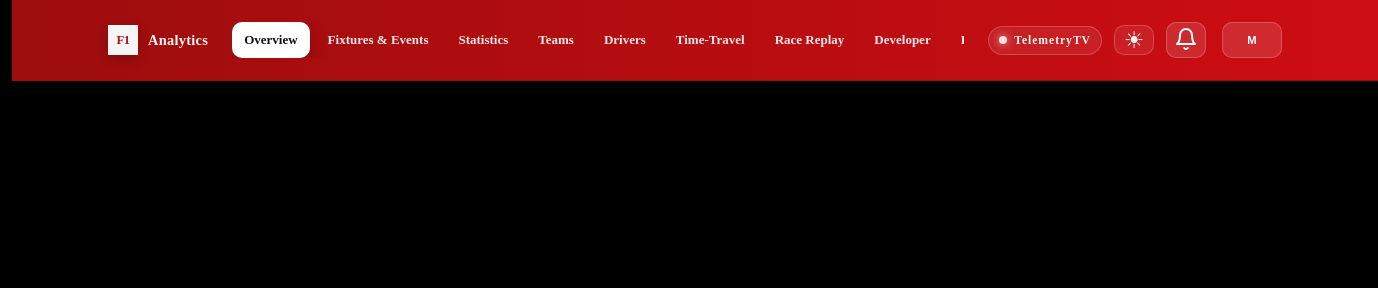
Test case: TopNavigation › asks for confirmation before logging out, and No only clears the question
This screenshot has width=1378, height=288.
Click the button "M" at (1252,40), box top-left (1222, 22), bottom-right (1282, 58)
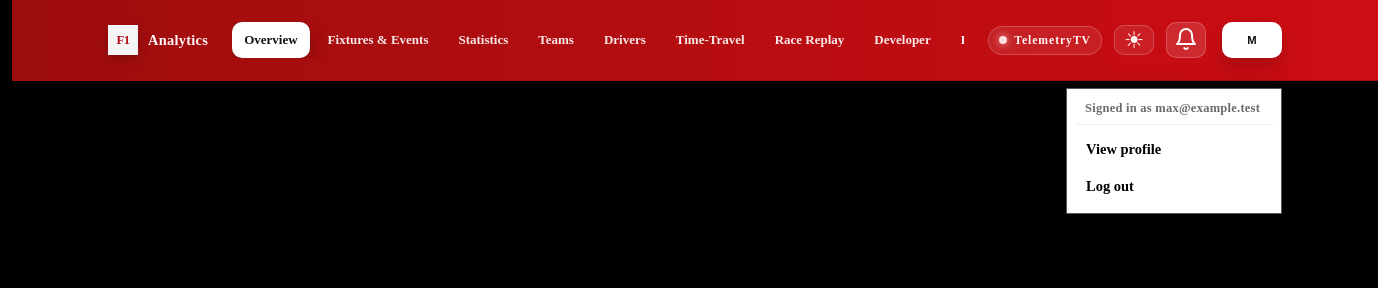
Click the button "Log out" at (1174,186), box top-left (1075, 168), bottom-right (1273, 205)
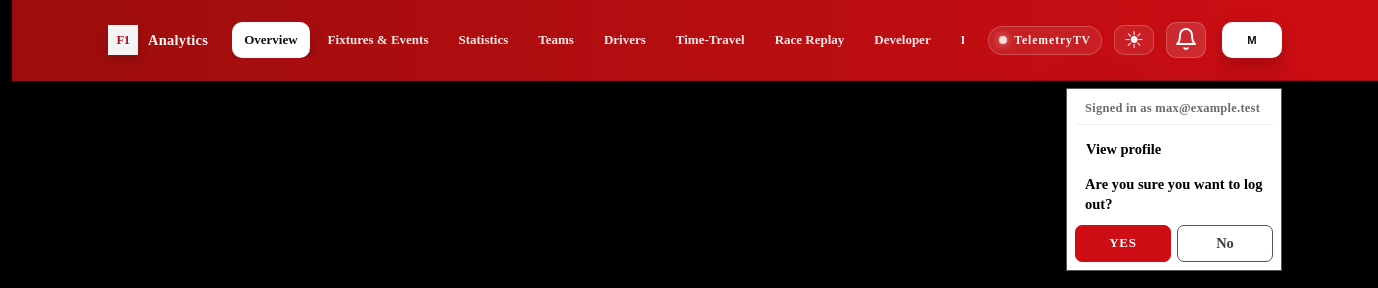
Check: the text "Are you sure you want to log out?" is shown, box top-left (1085, 174), bottom-right (1263, 215)
Click the button "No" at (1225,243), box top-left (1177, 225), bottom-right (1273, 262)
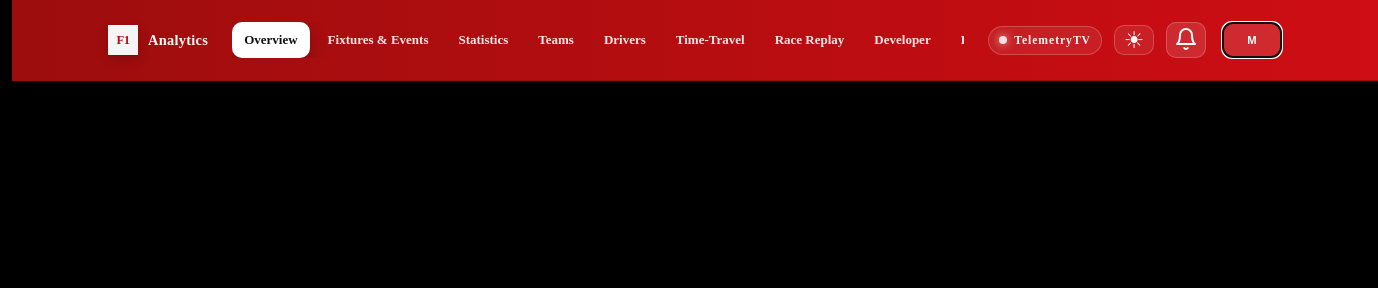
Check: the text with test id "location" reads "/overview", box top-left (12, 81), bottom-right (76, 98)
Check: the text "Are you sure you want to log out?" is gone
